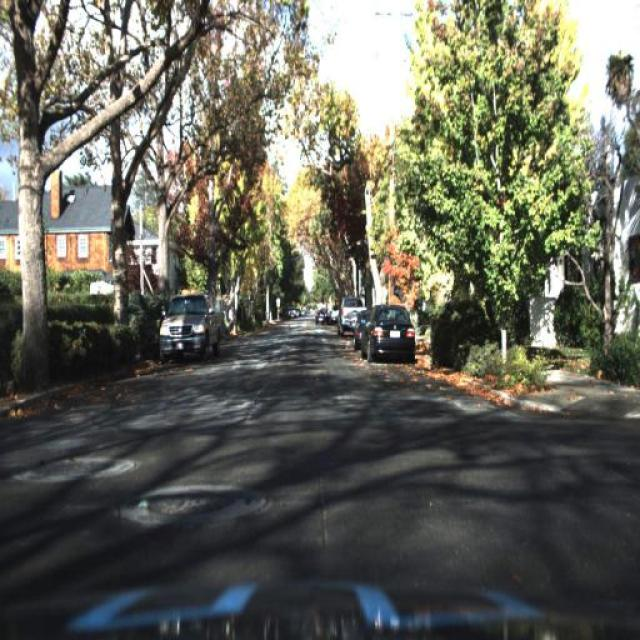car: (361, 302, 422, 370), (158, 290, 217, 358), (336, 292, 366, 338), (338, 297, 357, 339), (314, 304, 334, 326)
